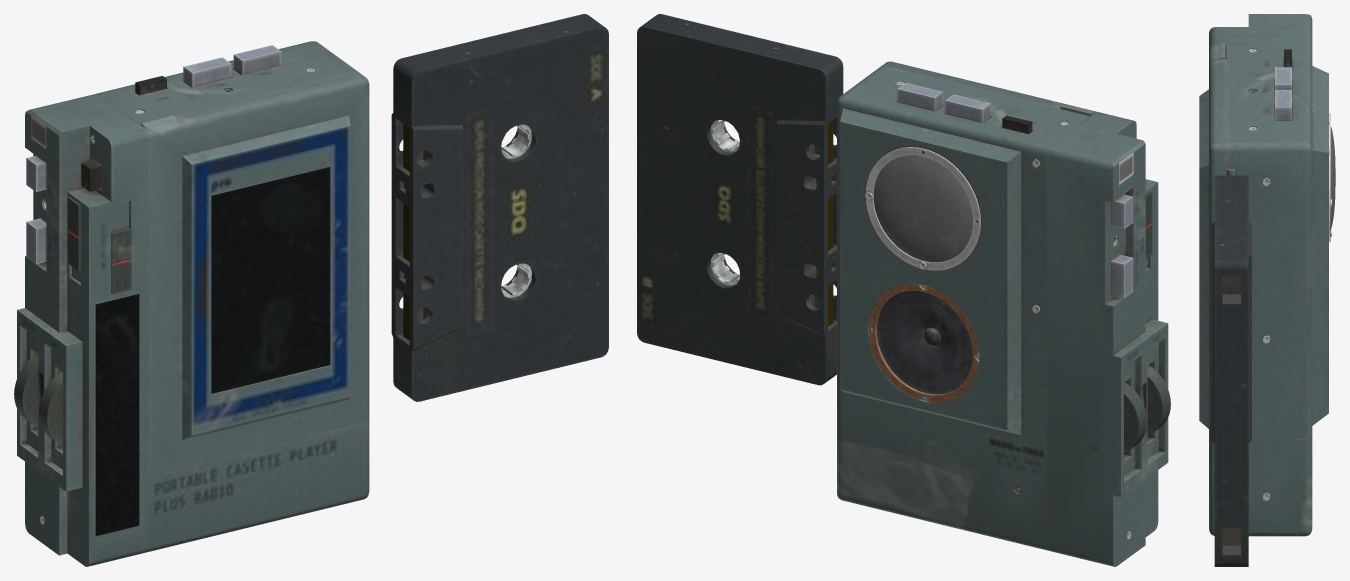
The model's file is portable_cassette_player.glb.
The picture shows the model from 3 angles, left to right: view 1: azimuth 30°, elevation 25°; view 2: azimuth 150°, elevation 25°; view 3: azimuth 270°, elevation 25°; orthographic projection. The views are drawn at different scales.
Parts seen in each view (by area): view 1: portable_cassette_player, portable_cassette_player_lid, portable_cassette_player_casette; view 2: portable_cassette_player, portable_cassette_player_casette, portable_cassette_player_lid; view 3: portable_cassette_player, portable_cassette_player_casette, portable_cassette_player_lid.
Part boxes in pixels (left/top/right/bottom): portable_cassette_player: left=14, top=41, right=369, bottom=566; portable_cassette_player_lid: left=141, top=72, right=369, bottom=476; portable_cassette_player_casette: left=391, top=14, right=608, bottom=401; portable_cassette_player: left=837, top=66, right=1170, bottom=566; portable_cassette_player_casette: left=637, top=14, right=843, bottom=385; portable_cassette_player_lid: left=881, top=61, right=1096, bottom=116; portable_cassette_player: left=1209, top=14, right=1335, bottom=536; portable_cassette_player_casette: left=1211, top=175, right=1251, bottom=566; portable_cassette_player_lid: left=1199, top=42, right=1235, bottom=466.
Size of the model in its own units: 0.1723 by 0.1303 by 0.0397.
2 materials, 2 textured.
